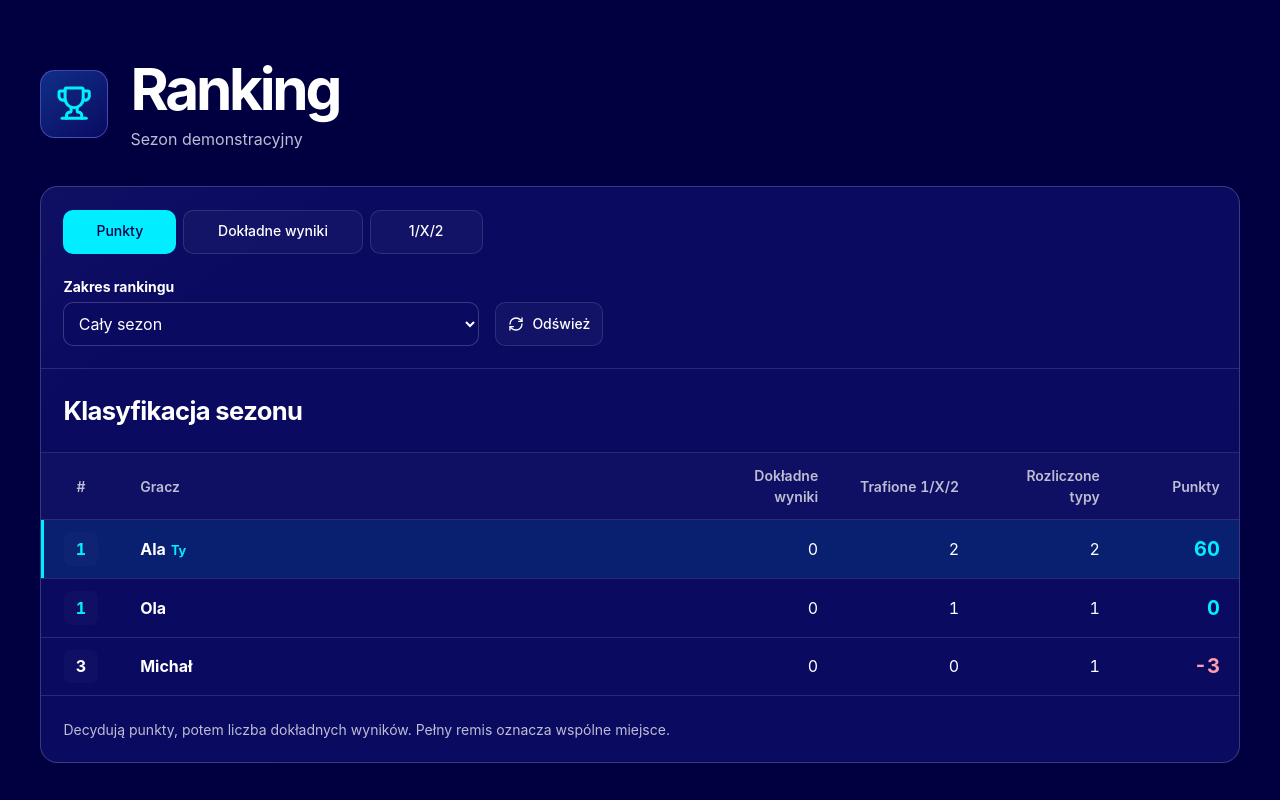
shows the signed-in player's shared place and reads a selected round from the API
Expected: the text "Ty" is shown, [171, 541, 186, 560]
Select "Tylko runda 3" in the dropdown labelled "Zakres rankingu" at (271, 324), box [63, 302, 479, 346]
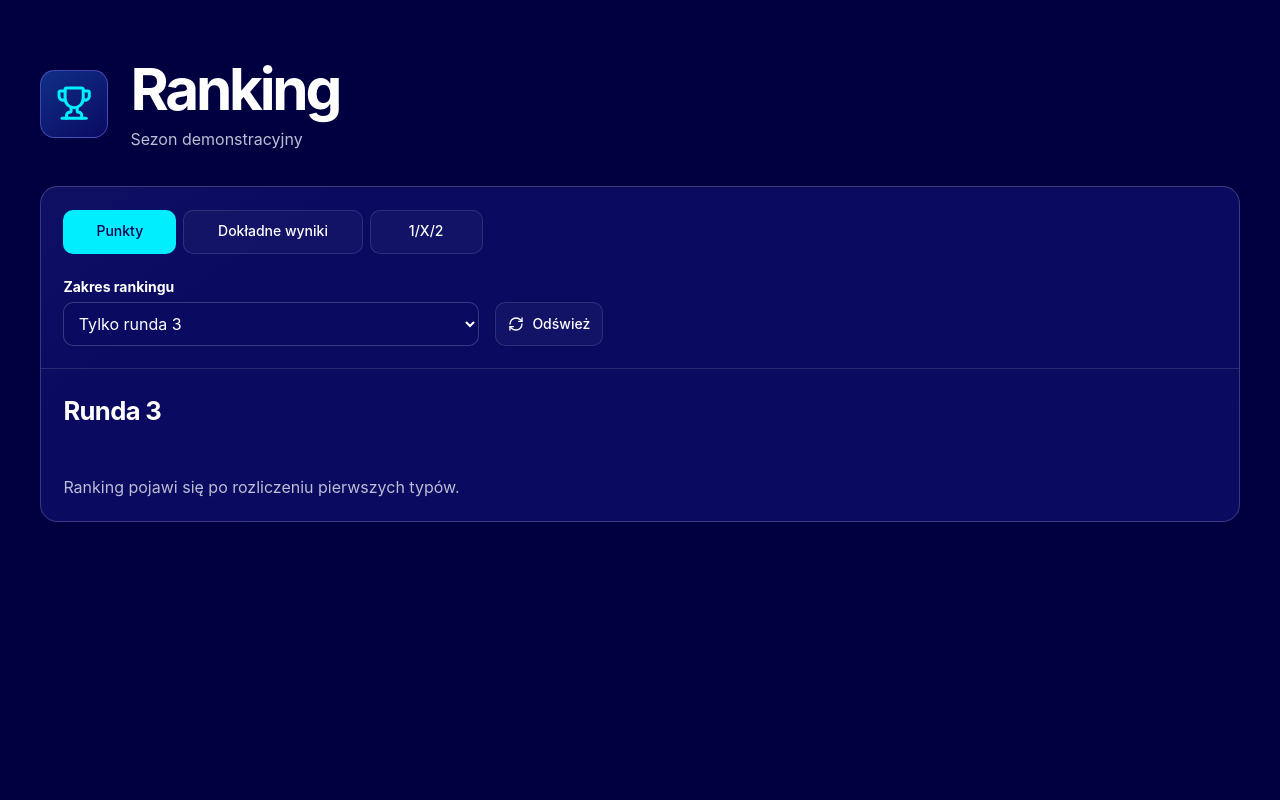
Now the heading "Runda 3" is shown, box [63, 394, 161, 426]
Now the text "Ranking pojawi się po rozliczeniu pierwszych typów." is shown, box [63, 477, 460, 497]
Now the text "Michał" is gone
